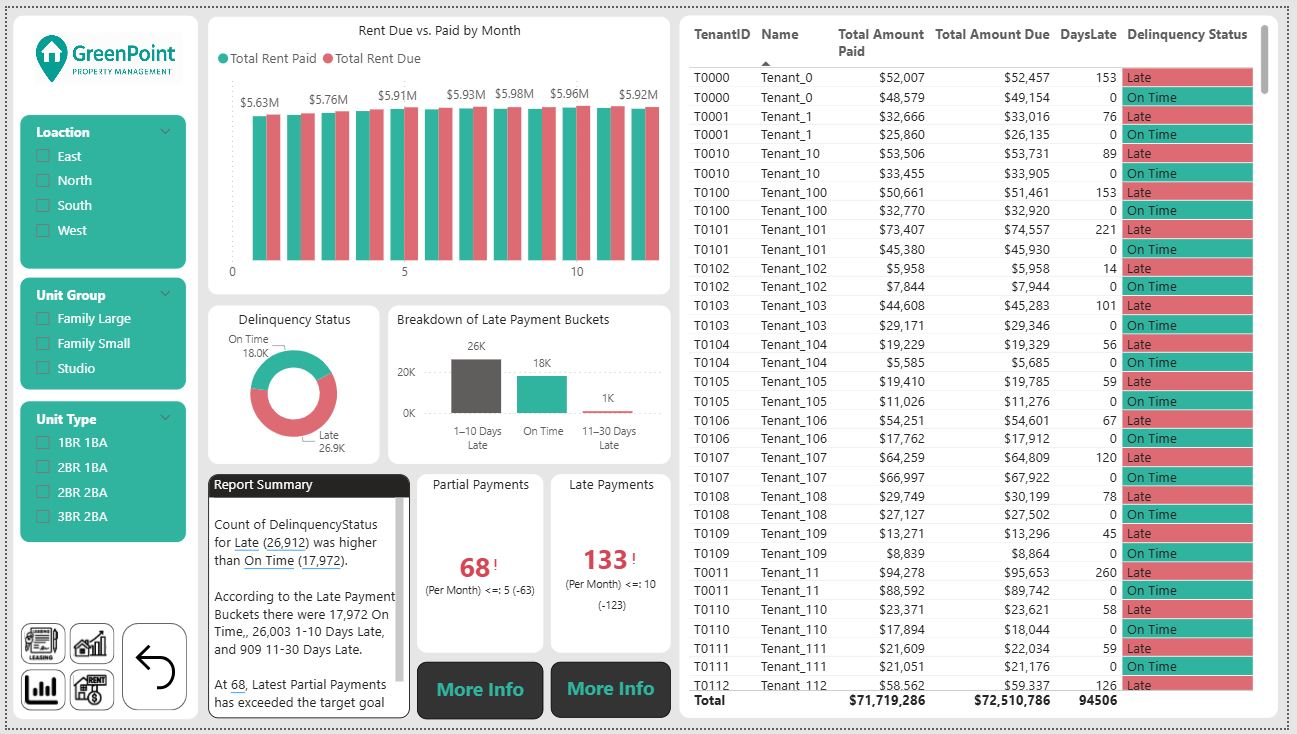

The page's visual inventory and layout, read from the dashboard file:
{"tool":"powerbi","page":{"name":"Rent Health & Delinquency Dashboard","canvas":[1280,720],"ordinal":1},"visuals":[{"type":"tableEx","fields":{"Values":["Tenants.TenantID","Tenants.Name","Sum(RentTransactions.AmountPaid)","Sum(RentTransactions.AmountDue)","Sum(RentTransactions.DaysLate)","RentTransactions.DelinquencyStatus"]},"box":[672.5,7.5,598.8,702.5],"z":0},{"type":"shape","title":"Left Nav. Background","box":[6.2,7.5,185,703.8],"z":1000},{"type":"slicer","fields":{"Values":["Units.Location"]},"box":[12.5,106.2,167.5,155],"z":2000},{"type":"slicer","fields":{"Values":["Units.UnitGroup"]},"box":[12.5,268.8,167.5,113.8],"z":3000},{"type":"actionButton","box":[115,615.2,65,87.5],"z":4000},{"type":"image","box":[22.5,20,157.5,60],"z":5000},{"type":"actionButton","box":[13.8,615.2,45,41.2],"z":6000},{"type":"actionButton","box":[62.5,615.2,45,41.2],"z":7000},{"type":"actionButton","box":[62.5,661.5,45,41.2],"z":8000},{"type":"actionButton","box":[13.8,661.5,45,41.2],"z":9000},{"type":"clusteredColumnChart","title":"Rent Due vs. Paid by Month","fields":{"Category":["DateTable.Month"],"Y":["Measures Table.Total Rent Paid","Measures Table.Total Rent Due"]},"box":[201.2,8.8,461.2,277.5],"z":10000},{"type":"donutChart","title":"Delinquency Status","fields":{"Category":["RentTransactions.DelinquencyStatus"],"Y":["CountNonNull(RentTransactions.DelinquencyStatus)"]},"box":[201.2,297.5,171.2,158.8],"z":11000},{"type":"columnChart","title":"Breakdown of Late Payment Buckets","fields":{"Category":["RentTransactions.DelinquencyBucket"],"Y":["CountNonNull(RentTransactions.MonthYear)"]},"box":[381.2,297.5,282.5,158.8],"z":12000},{"type":"kpi","title":"Late Payments","fields":{"TrendLine":["DateTable.Date"],"Goal":["Measures Table.Late Payment Target"],"Indicator":["Measures Table.Late Payments"]},"box":[543.6,466.4,120,178.2],"z":13000},{"type":"kpi","title":"Partial Payments","fields":{"Goal":["Measures Table.Partial Payment Target"],"TrendLine":["DateTable.Month"],"Indicator":["Measures Table.Latest Partial Payments"]},"box":[410,466.4,126.4,178.2],"z":14000},{"type":"textbox","title":"Report Summary ","box":[201.2,466.2,201.2,243.8],"z":15000},{"type":"card","fields":{"Values":["Measures Table.InfoText"]},"box":[544,654,120,56],"z":16000},{"type":"card","fields":{"Values":["Measures Table.InfoText"]},"box":[410,653.6,126.4,57.3],"z":17000},{"type":"slicer","fields":{"Values":["Units.UnitType"]},"box":[12.5,392.5,167.5,142.5],"z":18000}]}

Visuals, with their boxes in screenshot pixels (x1, y1, x2, y2), scaled from the page's 1280x720 canvas onto the 1297x734 screenshot:
tableEx - Tenants.TenantID x Tenants.Name: [681,8,1288,724]
"Left Nav. Background" shape: [6,8,194,725]
slicer - Units.Location: [13,108,182,266]
slicer - Units.UnitGroup: [13,274,182,390]
actionButton: [117,627,182,716]
image: [23,20,182,82]
actionButton: [14,627,60,669]
actionButton: [63,627,109,669]
actionButton: [63,674,109,716]
actionButton: [14,674,60,716]
"Rent Due vs. Paid by Month" clusteredColumnChart: [204,9,671,292]
"Delinquency Status" donutChart: [204,303,377,465]
"Breakdown of Late Payment Buckets" columnChart: [386,303,673,465]
"Late Payments" kpi: [551,475,672,657]
"Partial Payments" kpi: [415,475,544,657]
"Report Summary " textbox: [204,475,408,724]
card - Measures Table.InfoText: [551,667,673,724]
card - Measures Table.InfoText: [415,666,544,725]
slicer - Units.UnitType: [13,400,182,545]
